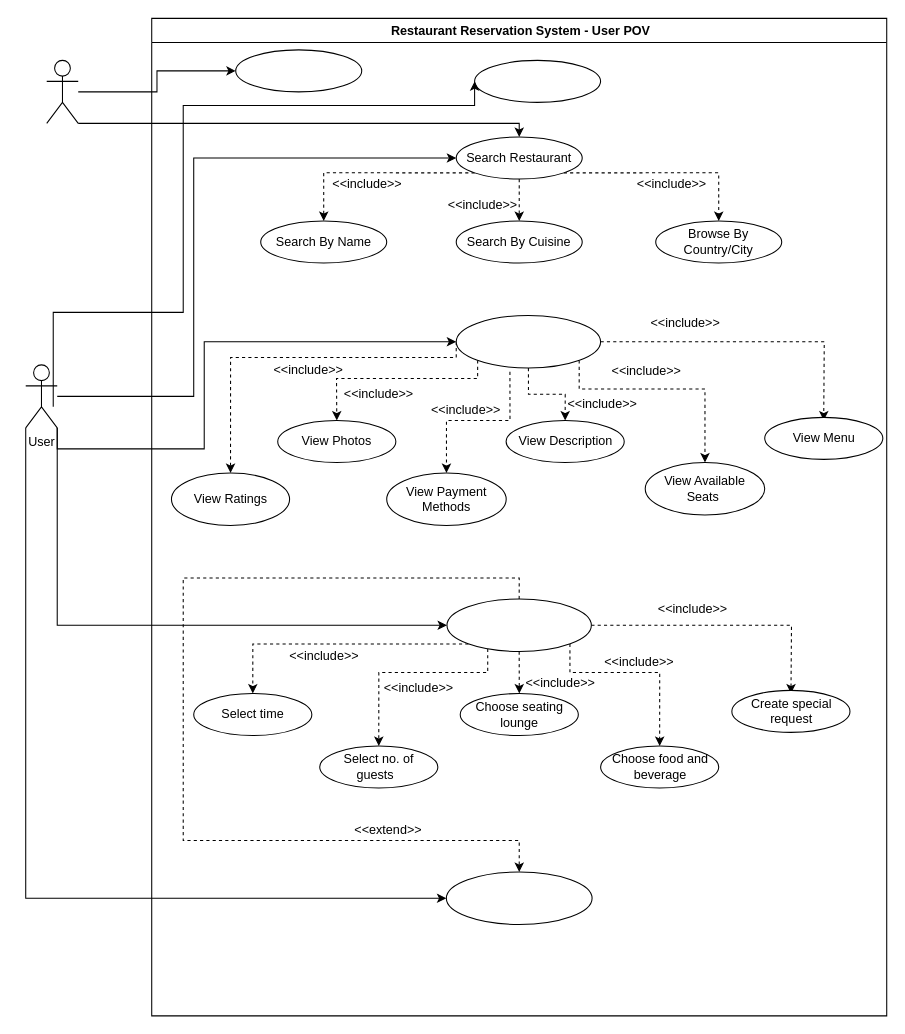
Some shapes in this 905 by 1034 pixel diagram are drawn without their labels. The shapes that lost their labels are listed below. From the top down, each one's centre as x and y in pixels, then its label:
At point 298,70: "Signup".
At point 537,80: "Login".
At point 62,91: "Visitor".
At point 528,341: "Browser Restaurant Profile".
At point 518,625: "Make Reservation".
At point 518,898: "Submit Review".
